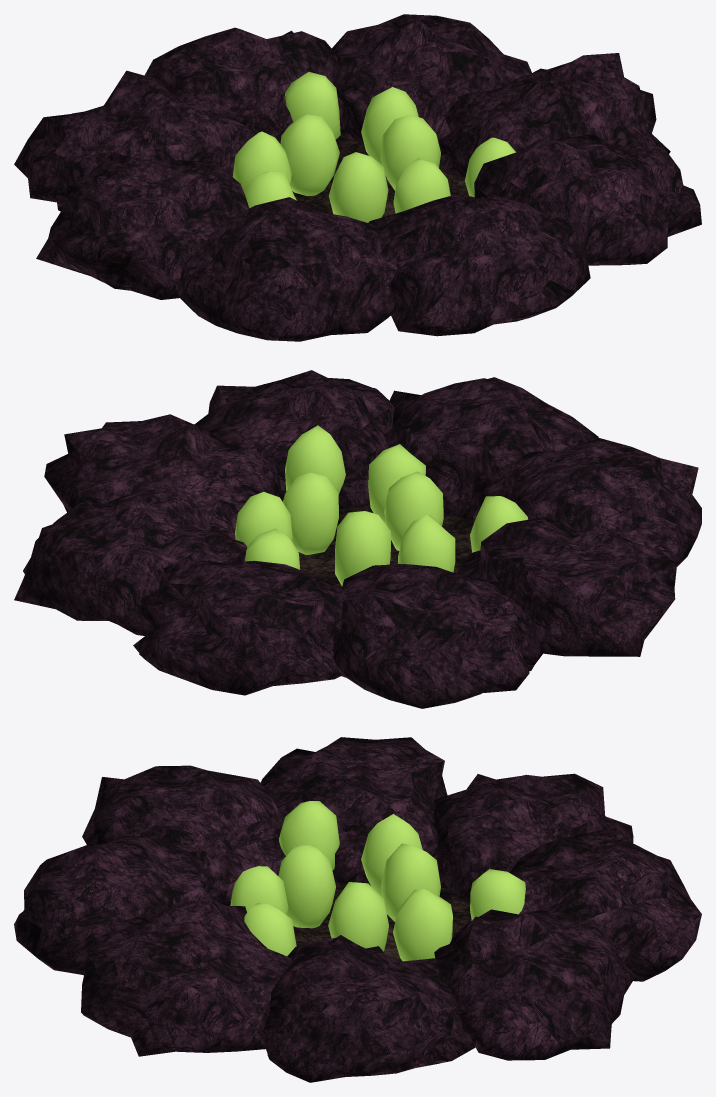
File: hatchery.gltf
The picture shows the model from 3 angles, top to bottom: view 1: azimuth 30°, elevation 25°; view 2: azimuth 150°, elevation 25°; view 3: azimuth 270°, elevation 25°; orthographic projection. The views are drawn at different scales.
Visible parts, largest first — view 1: rim5, rim6, rim4, rim7, rim3, rim0, rim1, rim2, egg3, egg6, egg0, egg2 (+6 smaller); view 2: rim3, rim2, rim4, rim1, rim0, rim5, rim6, rim7, egg0, egg3, egg6, egg8 (+6 smaller); view 3: rim7, rim0, rim1, rim2, rim6, rim5, rim4, rim3, egg6, egg1, egg0, egg3 (+6 smaller).
Part boxes in pixels (bbox=[...]): rim5: bbox=[176, 197, 397, 341]; rim6: bbox=[368, 193, 590, 336]; rim4: bbox=[36, 153, 249, 299]; rim7: bbox=[474, 134, 701, 265]; rim3: bbox=[14, 70, 257, 211]; rim0: bbox=[438, 53, 670, 177]; rim1: bbox=[332, 14, 531, 151]; rim2: bbox=[144, 27, 343, 143]; egg3: bbox=[280, 113, 339, 196]; egg6: bbox=[329, 152, 388, 222]; egg0: bbox=[380, 114, 440, 190]; egg2: bbox=[285, 72, 340, 139]; rim3: bbox=[333, 564, 543, 708]; rim2: bbox=[133, 559, 346, 695]; rim4: bbox=[457, 516, 676, 656]; rim1: bbox=[14, 488, 247, 635]; rim0: bbox=[44, 414, 281, 539]; rim5: bbox=[472, 437, 701, 566]; rim6: bbox=[384, 377, 598, 520]; rim7: bbox=[194, 370, 394, 509]; egg0: bbox=[283, 472, 338, 554]; egg3: bbox=[335, 511, 390, 586]; egg6: bbox=[384, 471, 443, 550]; egg8: bbox=[285, 425, 345, 494]; rim7: bbox=[81, 899, 292, 1056]; rim0: bbox=[264, 935, 475, 1082]; rim1: bbox=[434, 909, 634, 1060]; rim2: bbox=[509, 828, 701, 981]; rim6: bbox=[14, 835, 214, 975]; rim5: bbox=[82, 765, 285, 905]; rim4: bbox=[260, 737, 447, 884]; rim3: bbox=[433, 773, 633, 905]; egg6: bbox=[278, 845, 335, 928]; egg1: bbox=[393, 889, 452, 961]; egg0: bbox=[328, 882, 388, 951]; egg3: bbox=[381, 843, 440, 921].
Bounding box in the file's own units: 212 × 34.25 × 203.
3 materials, 2 textured.
